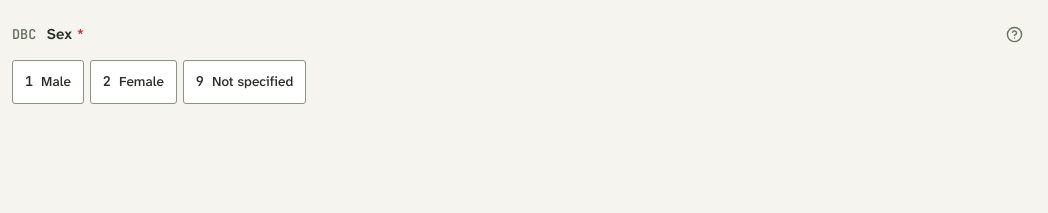
Scenario: FieldInput — field help popover › opens on click and closes on the next click
Click the button named "show help for DBC" at [1014, 34], box [992,12,1036,56]
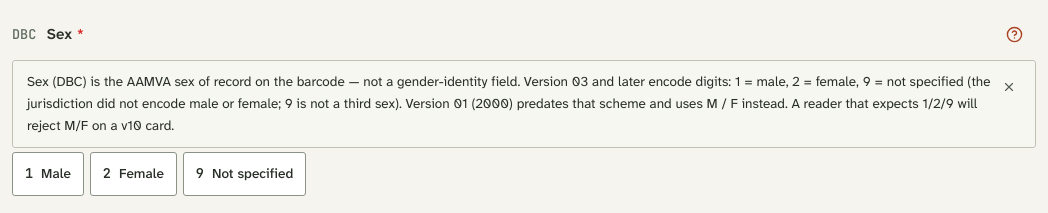
Check: the tooltip is shown, box [12,60,1036,148]
Check: the button named "show help for DBC" is expanded
Click the button named "hide help for DBC" at [1014, 34], box [992,12,1036,56]
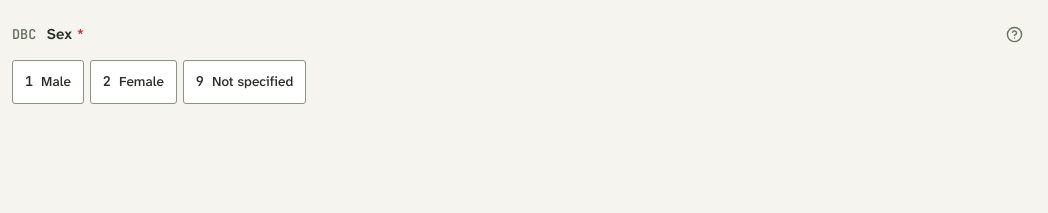
Check: the tooltip is gone
